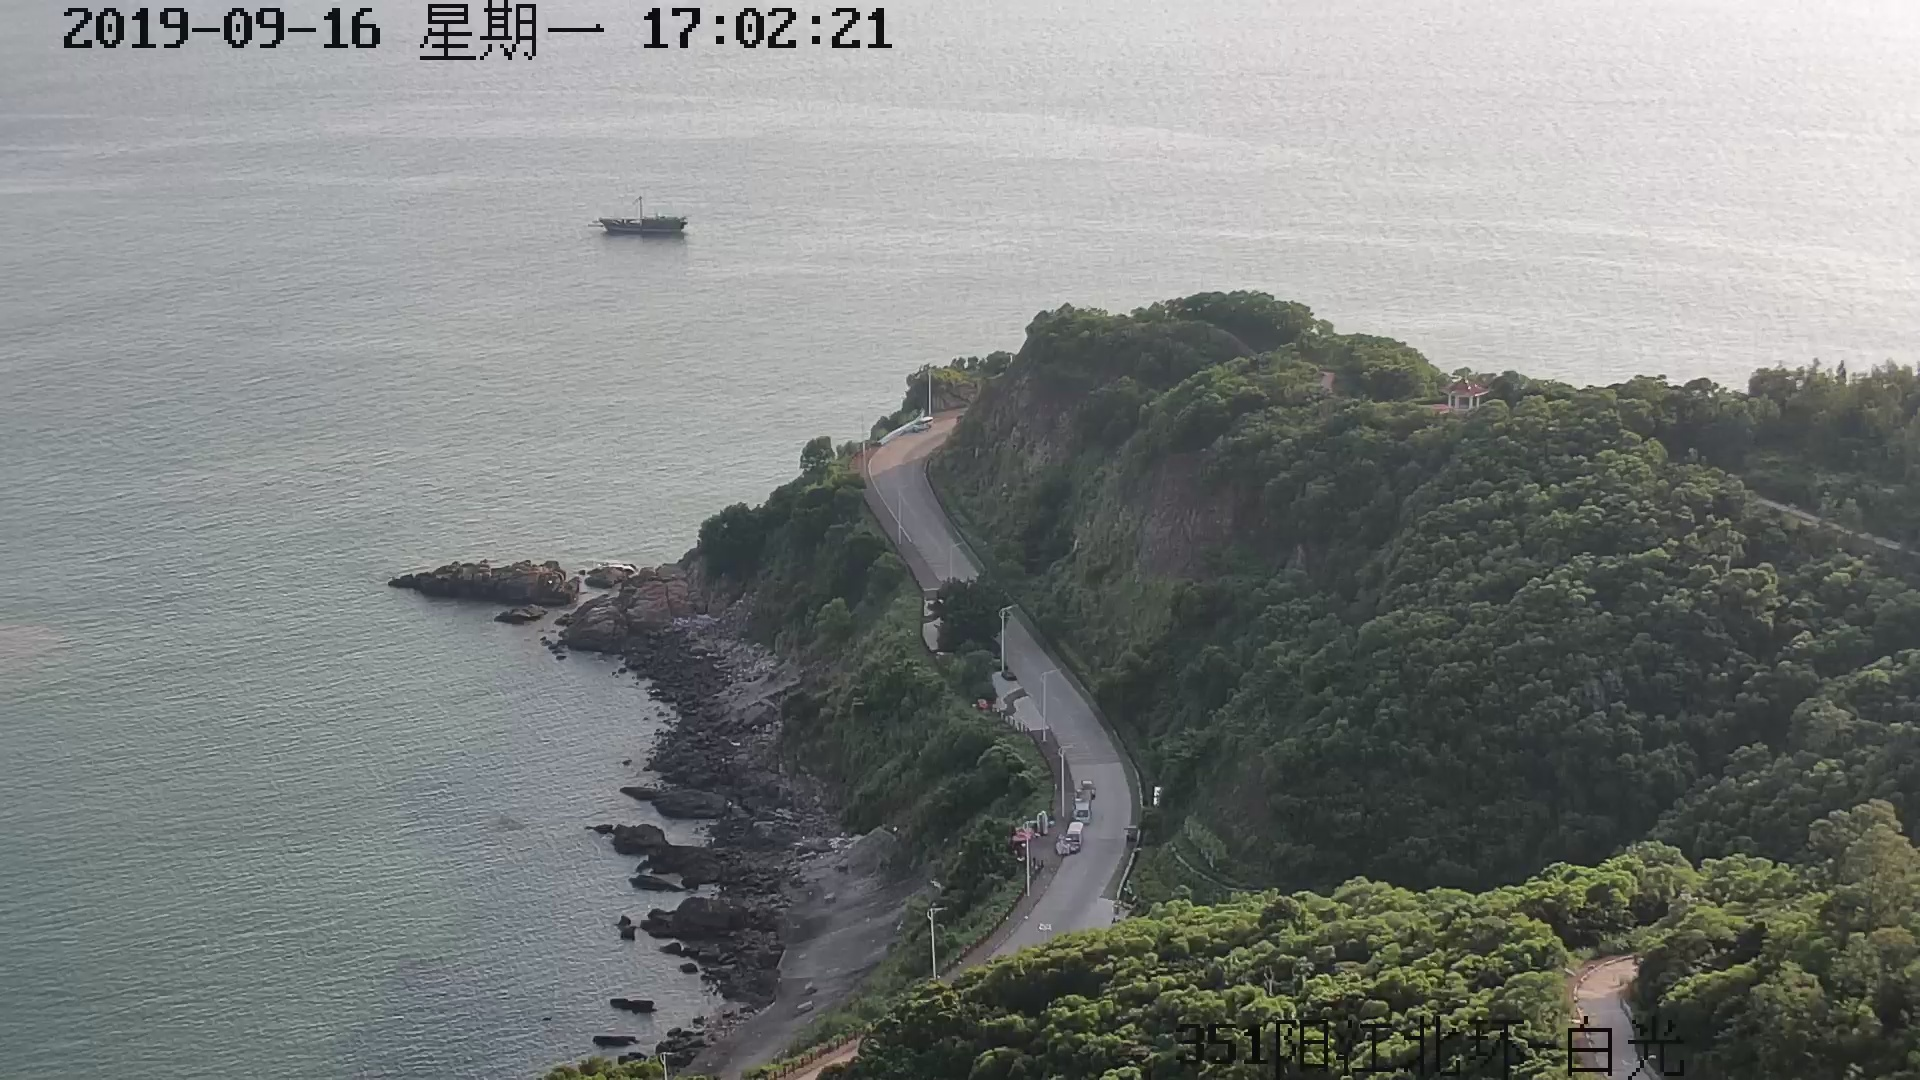ship: (595, 196, 690, 236)
